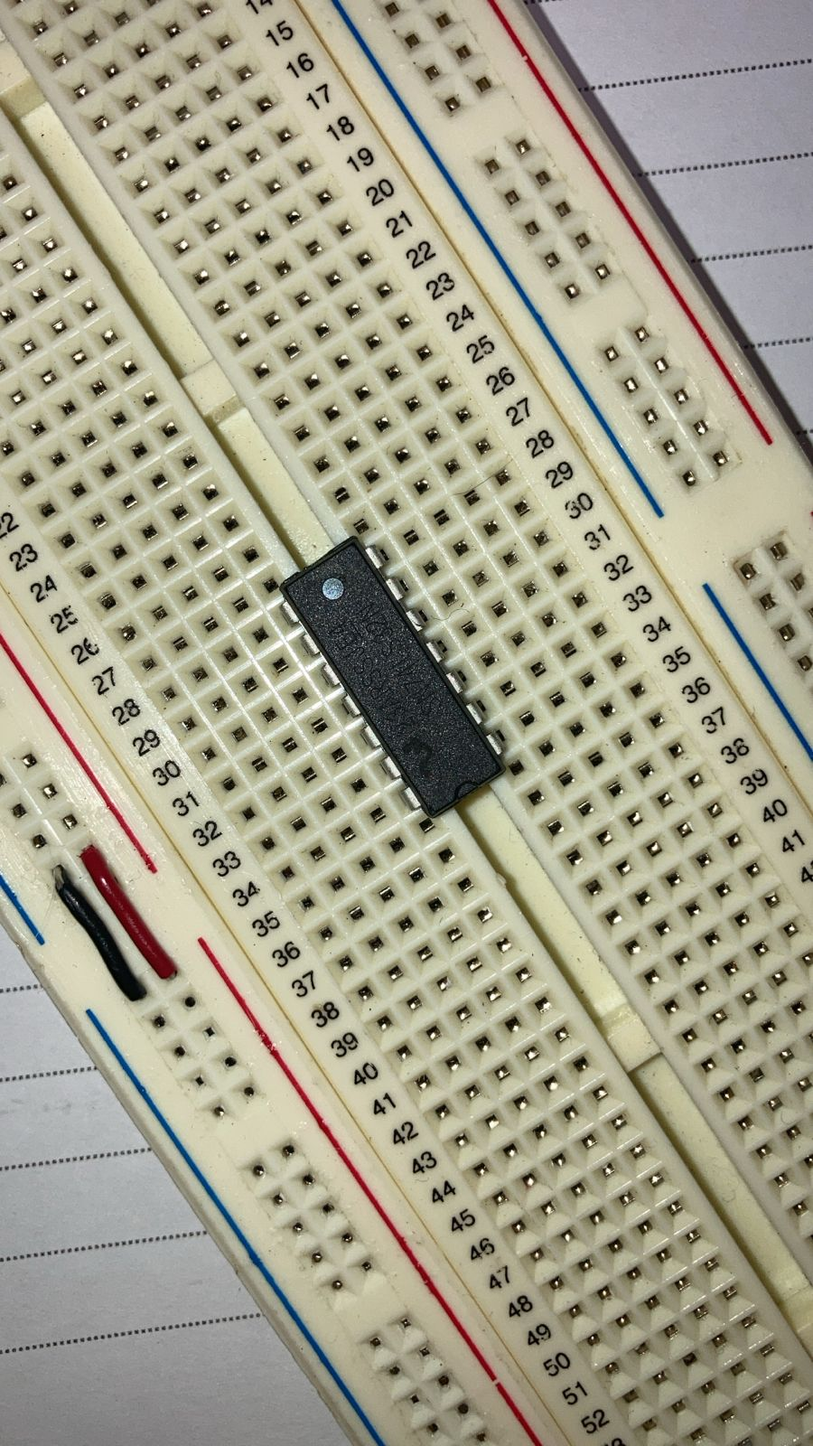IC: (268, 529, 518, 829)
notch: (454, 778, 483, 803)
